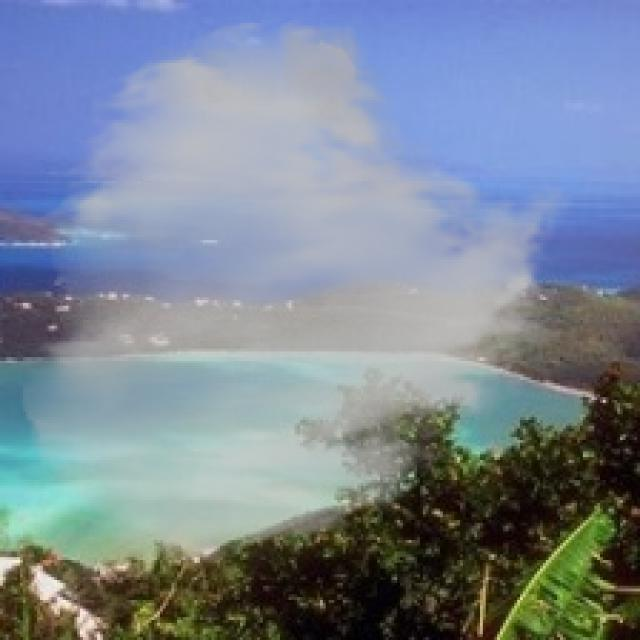smoke: (17, 14, 574, 569)
